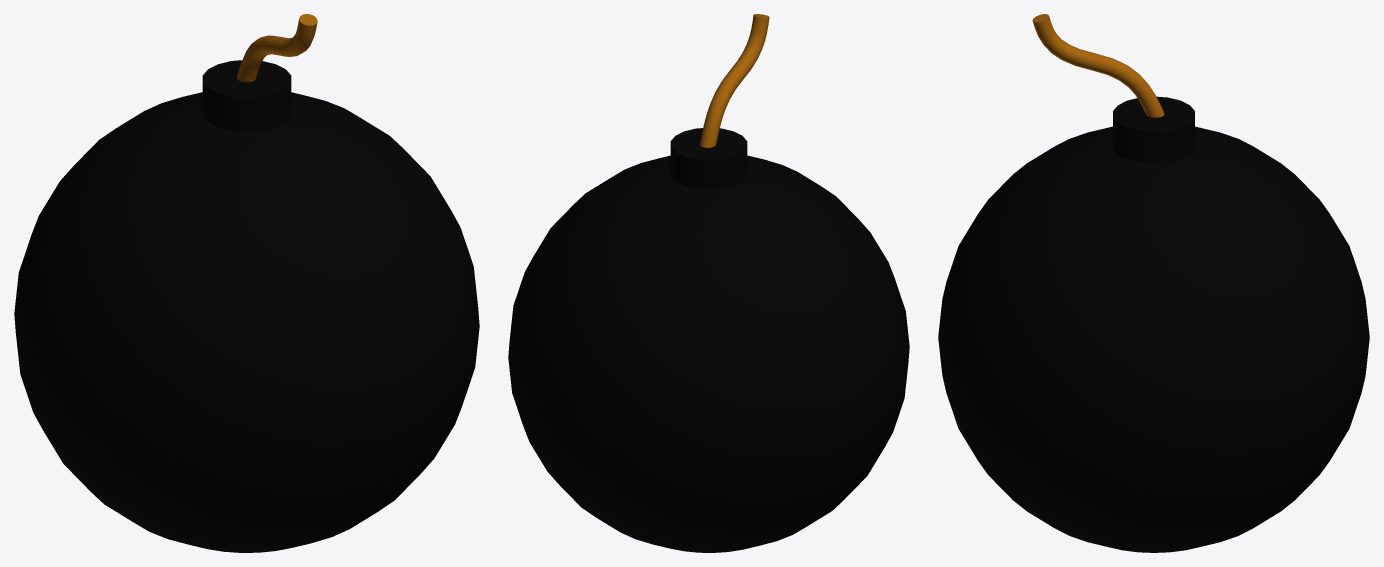
File: bombe.fbx
3 views of the same model, side by side, from view 1: azimuth 30°, elevation 25°; view 2: azimuth 150°, elevation 25°; view 3: azimuth 270°, elevation 25° (orthographic). The views are drawn at different scales.
Visible parts, largest first — view 1: cannonball, cylinder, blasting fuse; view 2: cannonball, cylinder, blasting fuse; view 3: cannonball, cylinder, blasting fuse.
Boxes of the visible parts, x1=… form: cannonball: x1=14, y1=92, x2=479, y2=552; cylinder: x1=202, y1=60, x2=291, y2=131; blasting fuse: x1=237, y1=14, x2=317, y2=82; cannonball: x1=508, y1=155, x2=909, y2=552; cylinder: x1=670, y1=128, x2=747, y2=189; blasting fuse: x1=700, y1=14, x2=769, y2=147; cannonball: x1=938, y1=126, x2=1369, y2=552; cylinder: x1=1113, y1=96, x2=1194, y2=162; blasting fuse: x1=1032, y1=14, x2=1164, y2=117.
Bounding box in the file's own units: 32.15 × 42.49 × 32.15.
